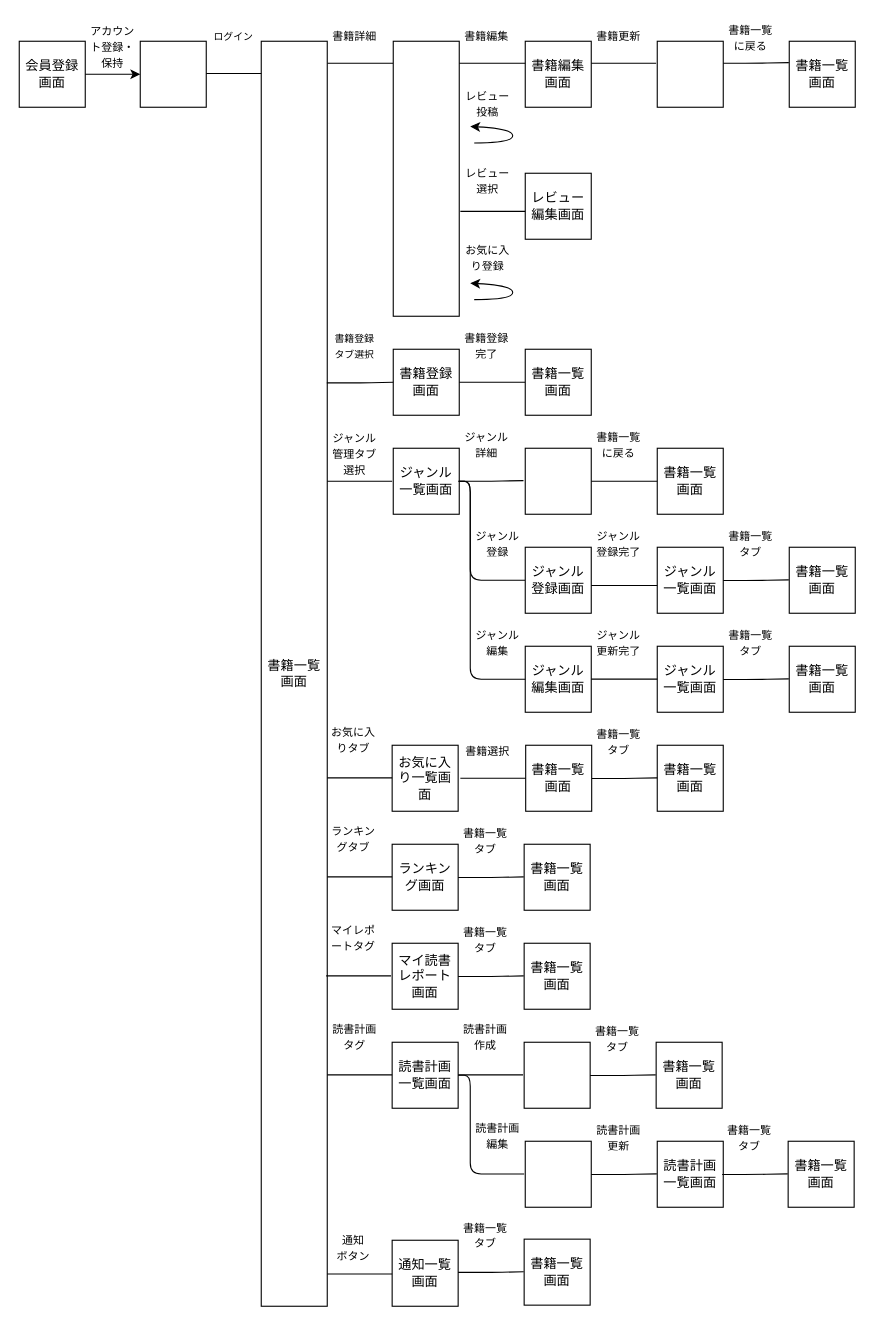
The diagram is 875 pixels wide and 1326 high, and some of its shapes have lost their labels. Here are the shapes that lost their labels. From the top down, the centre of each, then its label:
At (x=172, y=73): "ログイン画面".
At (x=689, y=73): "書籍詳細画面".
At (x=425, y=178): "書籍詳細 レビュー投稿画面 レビュー編集画面 お気に入り登録画面".
At (x=557, y=480): "ジャンル詳細画面".
At (x=556, y=1074): "読書計画作成画面".
At (x=557, y=1173): "読書計画編集画面".
